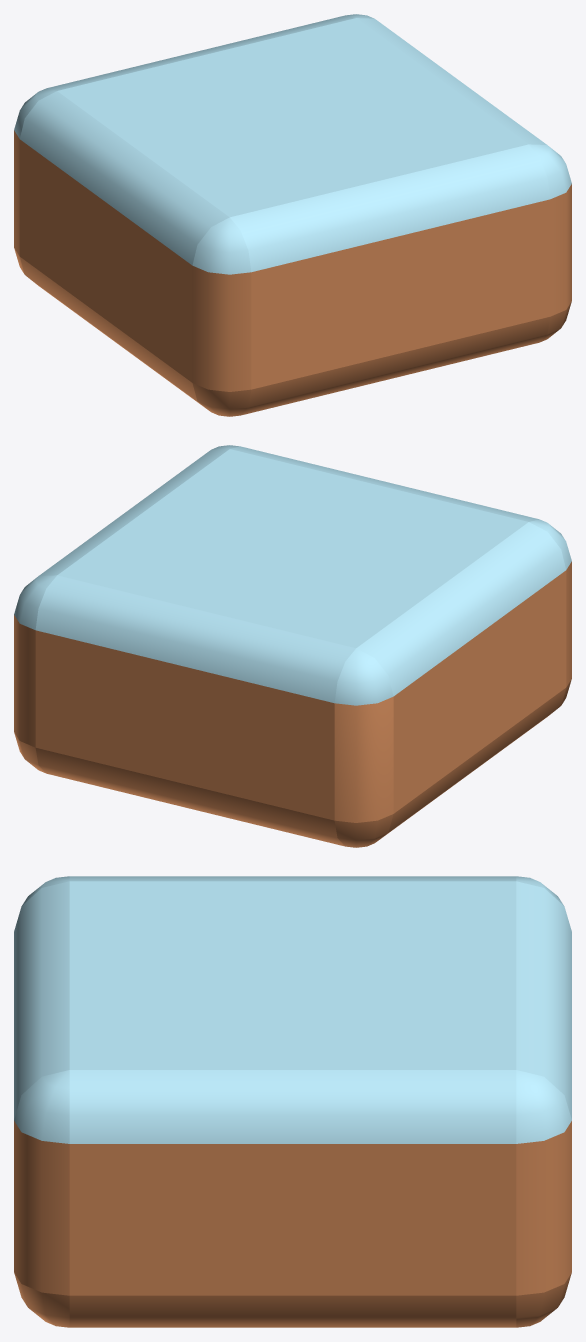
Rendered from blockSnowRoundedLow.obj.
The picture shows the model from 3 angles, top to bottom: view 1: azimuth 30°, elevation 25°; view 2: azimuth 150°, elevation 25°; view 3: azimuth 270°, elevation 25°; orthographic projection. The views are drawn at different scales.
Visible parts, largest first — view 1: blockSnowRoundedLow; view 2: blockSnowRoundedLow; view 3: blockSnowRoundedLow.
Boxes of the visible parts, x1,y1,x2,y2 form: blockSnowRoundedLow: (14,14,571,416); blockSnowRoundedLow: (14,445,571,847); blockSnowRoundedLow: (14,876,571,1327).
Size of the model in its own units: 1 by 0.5 by 1.
